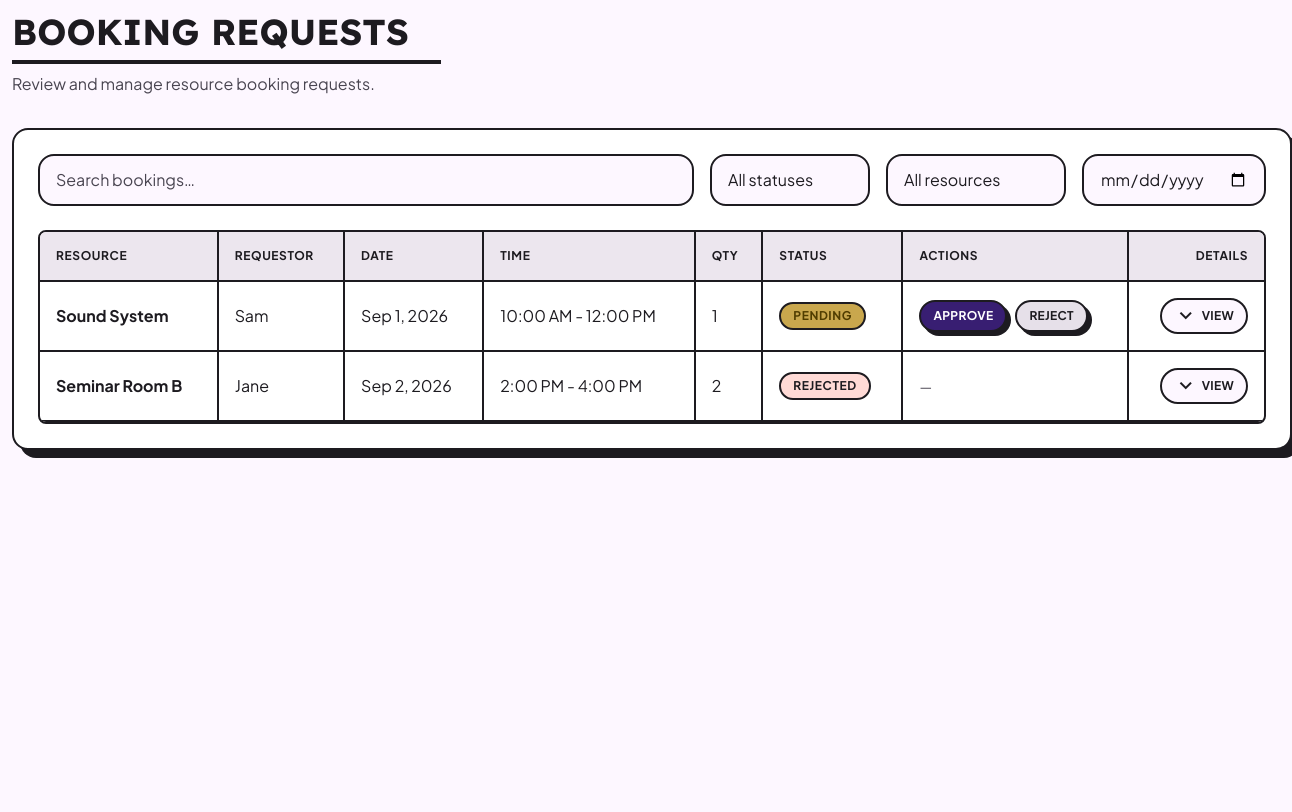
it: AdminBookingsPage › shows the rejection reason for rejected bookings
This screenshot has width=1292, height=812.
Click the button "View" in the row of "Seminar Room B" at (1204, 386), box [1160,368,1248,404]
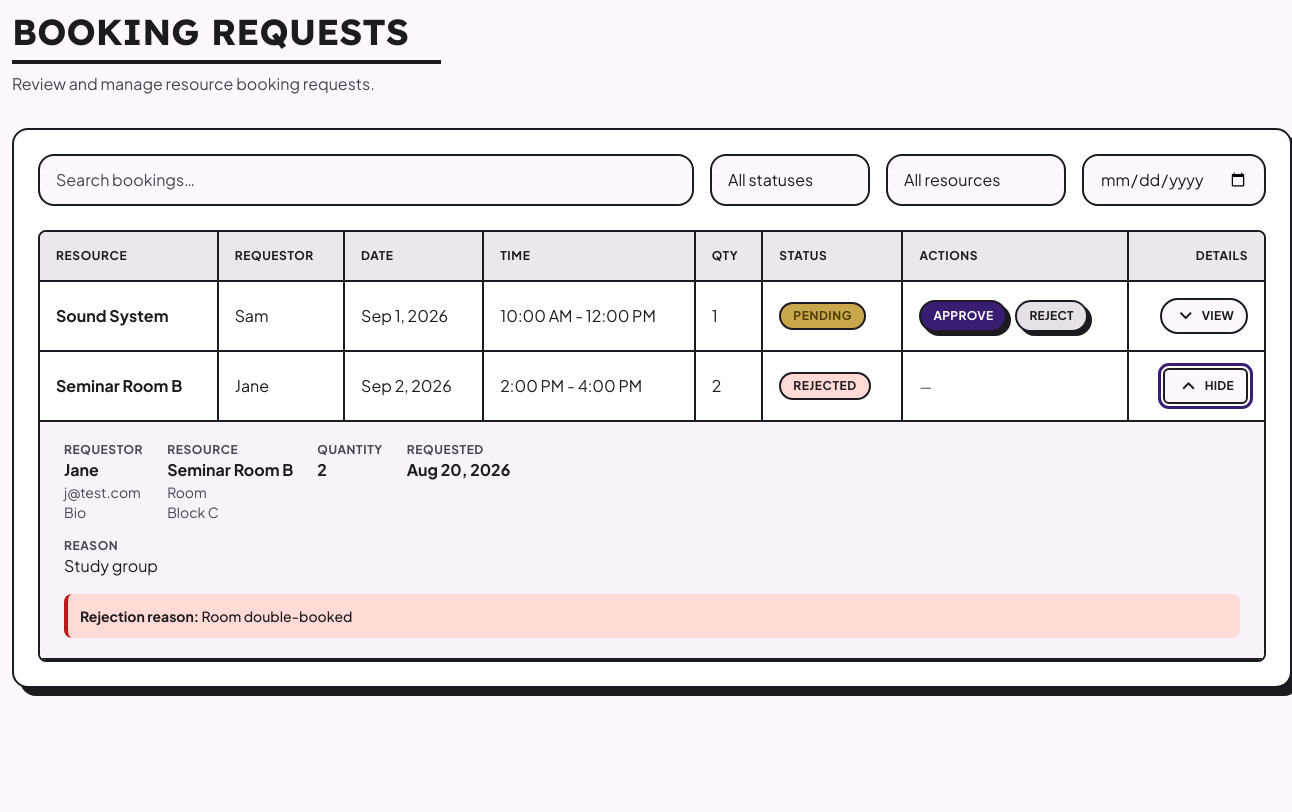
Expected: the text "Rejection reason:" is shown, [80,607,199,625]
Expected: the text "Room double-booked" is shown, [202,607,352,625]
